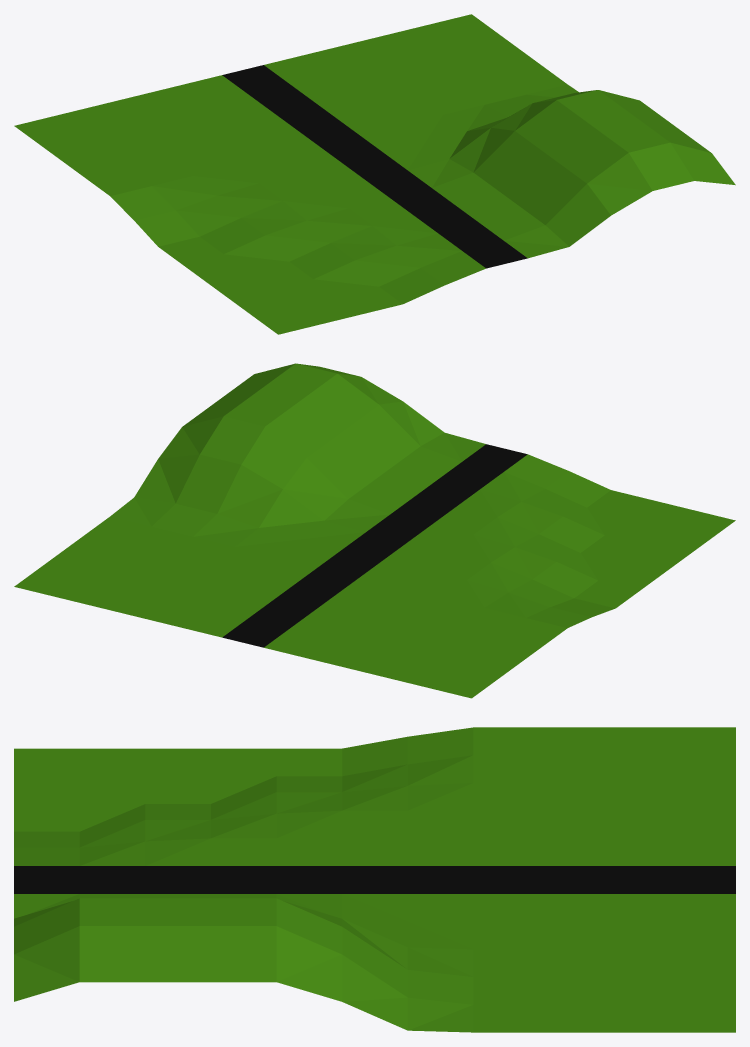
File: earth.obj
The picture shows the model from 3 angles, top to bottom: view 1: azimuth 30°, elevation 25°; view 2: azimuth 150°, elevation 25°; view 3: azimuth 270°, elevation 25°; orthographic projection. The views are drawn at different scales.
Parts seen in each view (by area): view 1: ground_placeholder; view 2: ground_placeholder; view 3: ground_placeholder.
Part boxes in pixels (x1,y1,x2,y2): ground_placeholder: (14, 14, 735, 334); ground_placeholder: (14, 363, 735, 698); ground_placeholder: (14, 727, 735, 1032).
Size of the model in its own units: 80 by 12.21 by 80.
